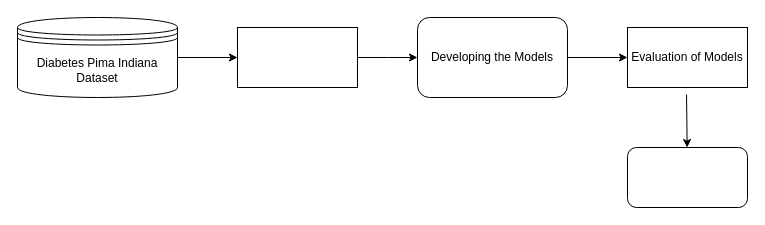
Some shapes in this 765 by 225 pixel diagram are drawn without their labels. Each missing label, with the centre of its shape:
Data Preprocessing: pixel 297 57
Results: pixel 687 177
